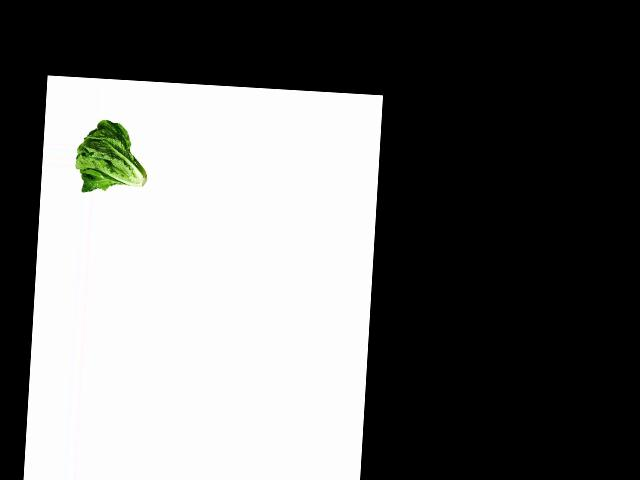lettuce: (73, 117, 153, 195)
